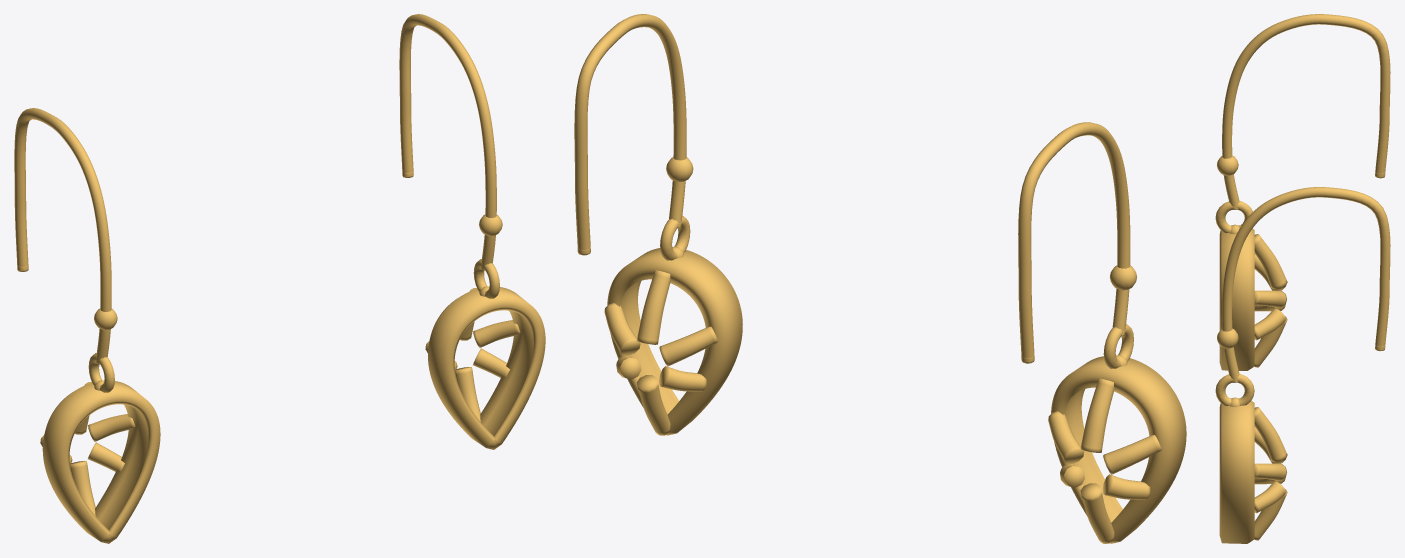
Rendered from Earring_Drops.glb.
The picture shows the model from 3 angles, left to right: view 1: azimuth 30°, elevation 25°; view 2: azimuth 150°, elevation 25°; view 3: azimuth 270°, elevation 25°; orthographic projection. The views are drawn at different scales.
Parts seen in each view (by area): view 1: Bezel, Bezel.001, Attach_Bail.001, Attach_Bail; view 2: Bezel, Bezel.001, Attach_Bail.001, Attach_Bail; view 3: Bezel, Bezel.001, Attach_Bail, Attach_Bail.001.
Part boxes in pixels (x1,y1,x2,y2): Bezel: [425, 287, 545, 449]; Bezel.001: [40, 381, 160, 543]; Attach_Bail.001: [14, 108, 117, 392]; Attach_Bail: [399, 14, 502, 298]; Bezel: [604, 248, 742, 435]; Bezel.001: [1048, 356, 1186, 543]; Attach_Bail.001: [1018, 122, 1136, 368]; Attach_Bail: [574, 14, 693, 260]; Bezel: [1219, 398, 1287, 543]; Bezel.001: [1219, 225, 1287, 370]; Attach_Bail: [1215, 187, 1390, 407]; Attach_Bail.001: [1215, 14, 1390, 234].
Size of the model in its own units: 0.0356 by 0.0269 by 0.012.
